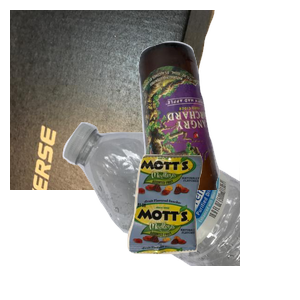cardboard: (10, 10, 217, 190)
glass: (136, 39, 300, 219)
plastic: (60, 120, 300, 300)
trash: (125, 152, 300, 300)
